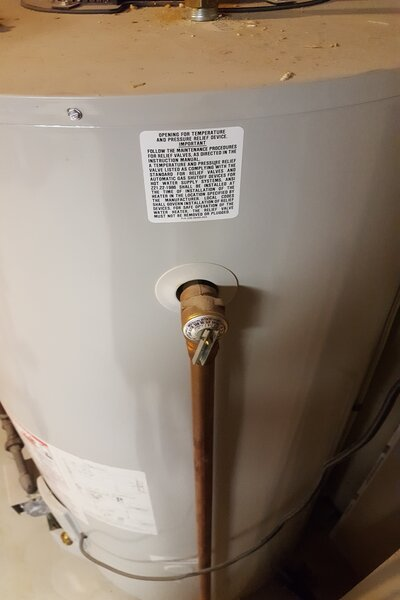valve: (176, 279, 231, 368)
